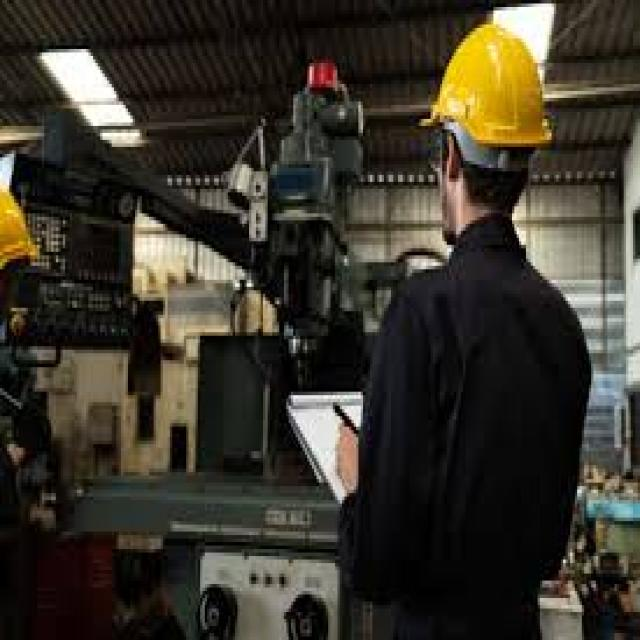Safety-Helmet: (414, 17, 566, 172), (0, 157, 51, 315)
